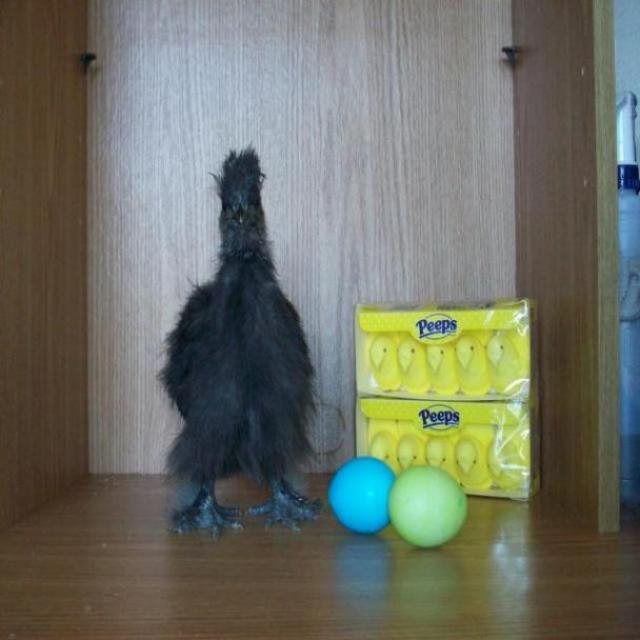Chicken: (158, 149, 241, 548)
